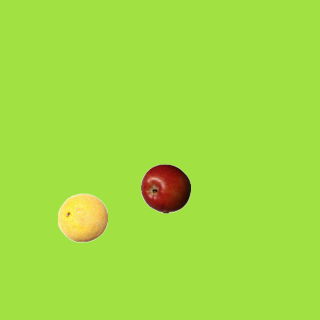Apple Braeburn: (140, 163, 190, 213)
Cantaloupe 1: (57, 192, 107, 242)
